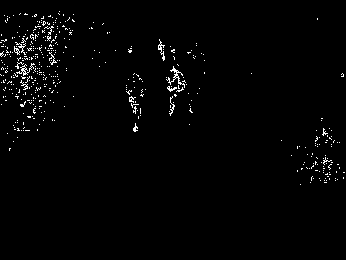person: (120, 72, 152, 136), (163, 61, 187, 119)
